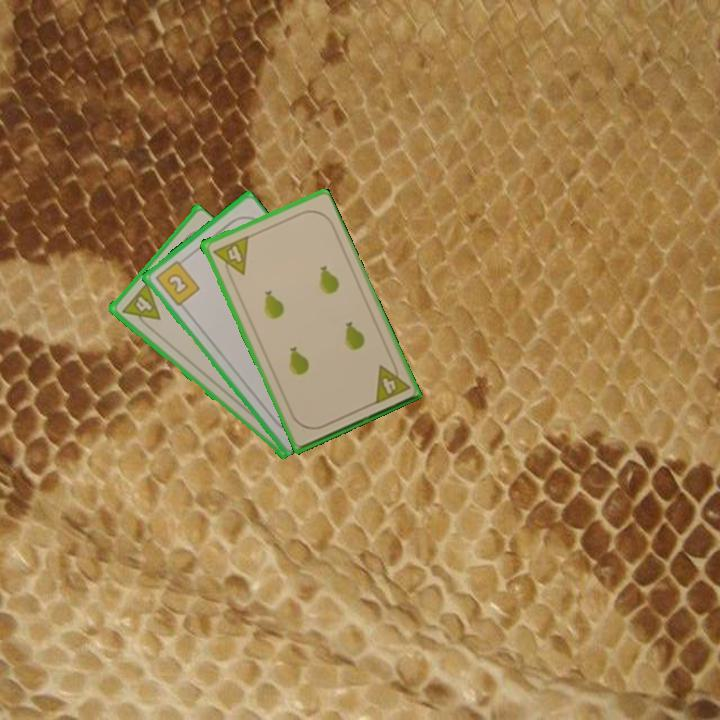2b: (151, 254, 202, 309)
4p: (118, 279, 163, 332), (208, 232, 251, 282), (371, 356, 413, 407)
